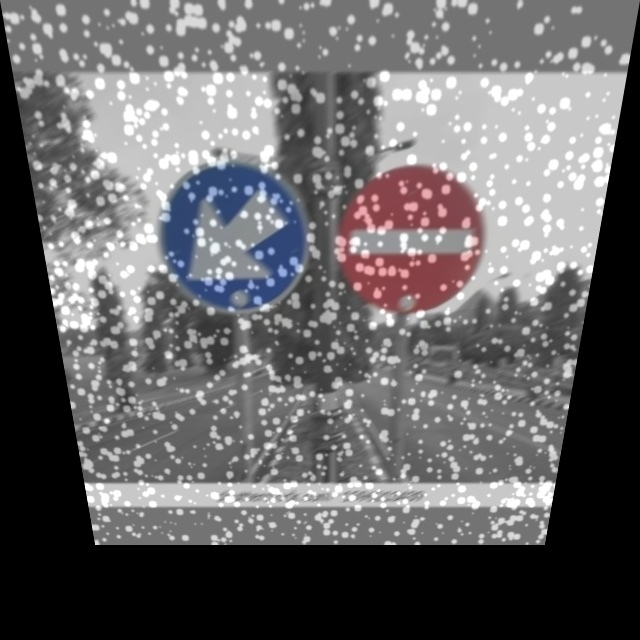Compulsory_Keep_Left: (153, 163, 305, 307)
